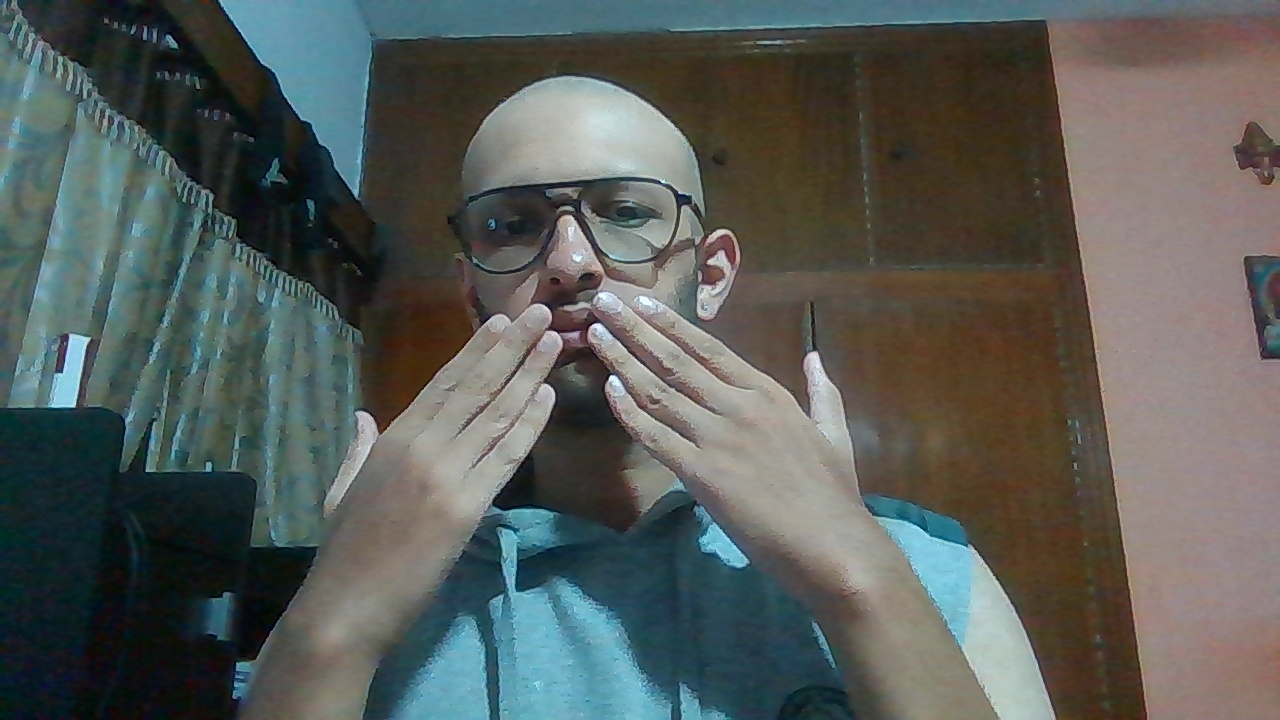Thank You: (313, 291, 885, 546)
